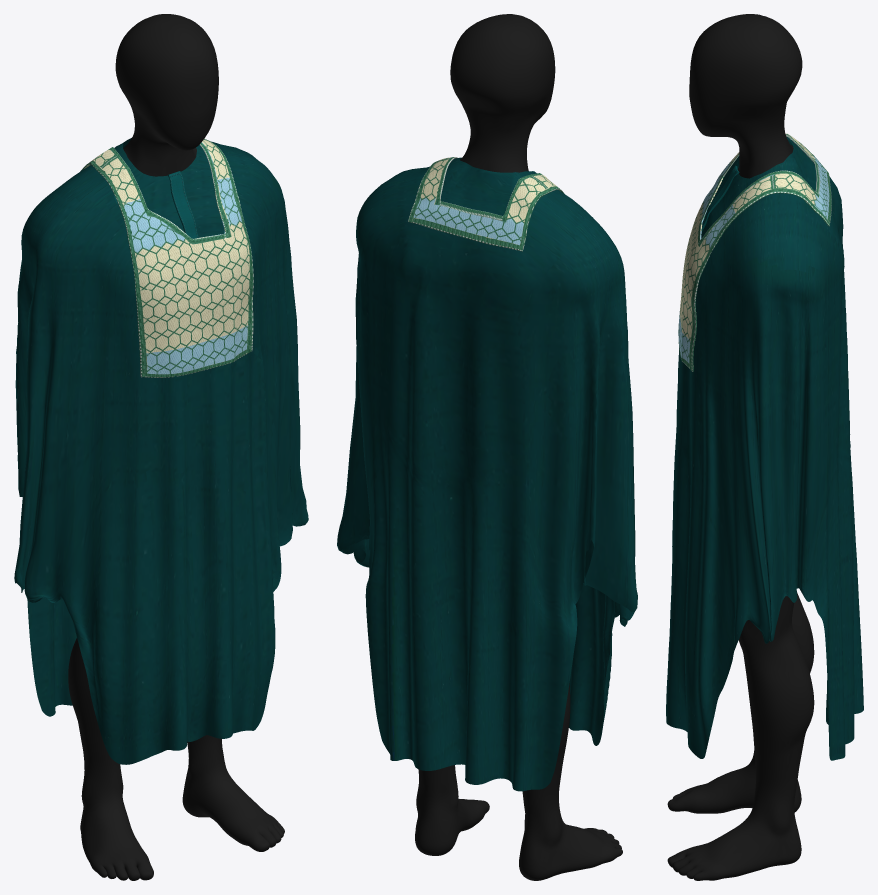
File: agbada-cloth.glb
3 views of the same model, side by side, from view 1: azimuth 30°, elevation 25°; view 2: azimuth 150°, elevation 25°; view 3: azimuth 270°, elevation 25° (orthographic).
Parts seen in each view (by area): view 1: Cube_Cloth material_0, Man_Body_0, Plane_Agbada Pattern_0, Cube_Cloth material thread_0; view 2: Cube_Cloth material_0, Man_Body_0, Plane_Agbada Pattern_0; view 3: Cube_Cloth material_0, Man_Body_0, Plane_Agbada Pattern_0.
Boxes of the visible parts, left/top/right/bottom form: Cube_Cloth material_0: left=14, top=138, right=308, bottom=764; Man_Body_0: left=68, top=14, right=284, bottom=880; Plane_Agbada Pattern_0: left=80, top=139, right=253, bottom=377; Cube_Cloth material thread_0: left=114, top=171, right=198, bottom=238; Cube_Cloth material_0: left=337, top=157, right=637, bottom=791; Man_Body_0: left=415, top=14, right=622, bottom=880; Plane_Agbada Pattern_0: left=408, top=157, right=564, bottom=251; Cube_Cloth material_0: left=666, top=137, right=863, bottom=760; Man_Body_0: left=667, top=14, right=814, bottom=880; Plane_Agbada Pattern_0: left=678, top=133, right=831, bottom=371.
Bounding box in the file's own units: 0.6994 × 1.86 × 0.4072.
4 materials, 3 textured.
